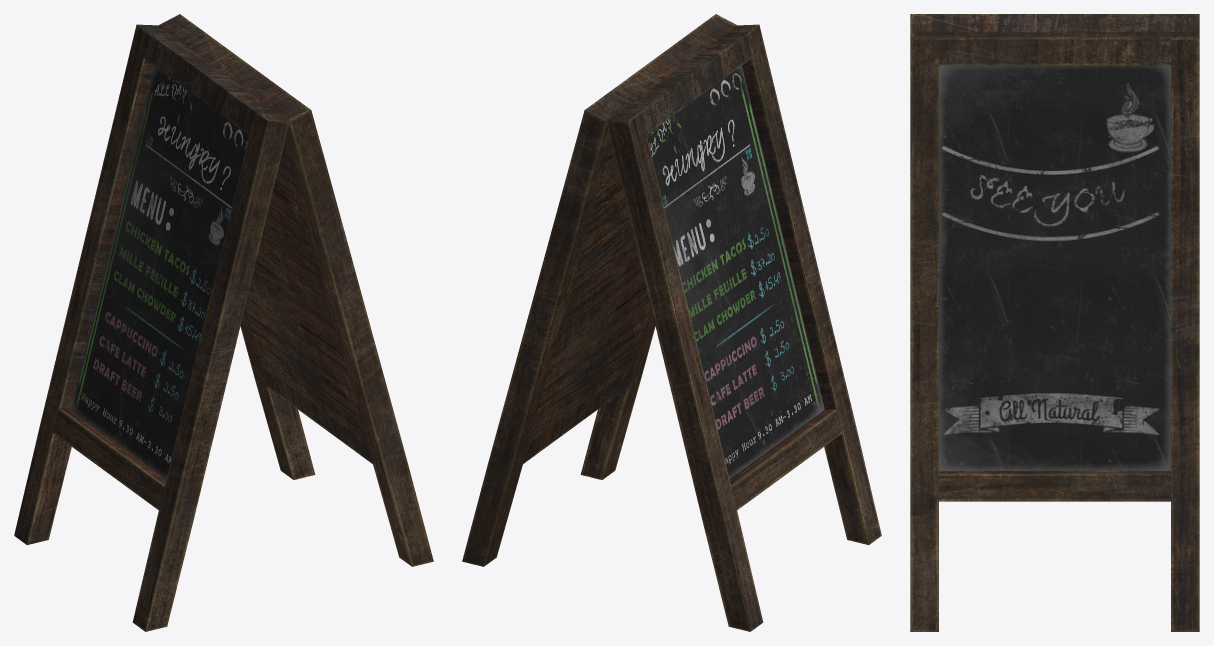
Rendered from welcome_sign_restaurant_optimized.glb.
The picture shows the model from 3 angles, left to right: view 1: azimuth 30°, elevation 25°; view 2: azimuth 150°, elevation 25°; view 3: azimuth 270°, elevation 25°; orthographic projection. The views are drawn at different scales.
Parts seen in each view (by area): view 1: SM_Welcome_Sign_Restourant; view 2: SM_Welcome_Sign_Restourant; view 3: SM_Welcome_Sign_Restourant.
Boxes of the visible parts, x1,y1,x2,y2 form: SM_Welcome_Sign_Restourant: (14, 14, 433, 631); SM_Welcome_Sign_Restourant: (462, 14, 881, 631); SM_Welcome_Sign_Restourant: (910, 14, 1199, 631).
Bounding box in the file's own units: 0.6585 × 1.05 × 0.52.
Materials: 1 (1 with a texture image).
